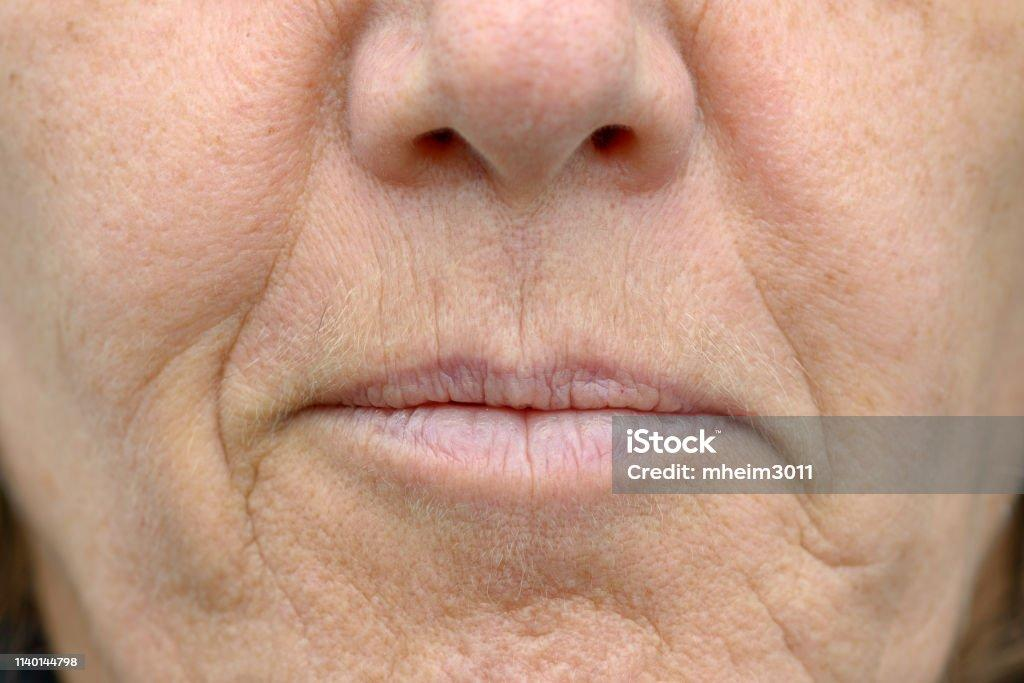Dry-Skin: (67, 410, 845, 627), (737, 30, 1012, 465), (363, 70, 705, 323), (388, 477, 807, 683), (82, 85, 375, 270), (843, 518, 1024, 660)
